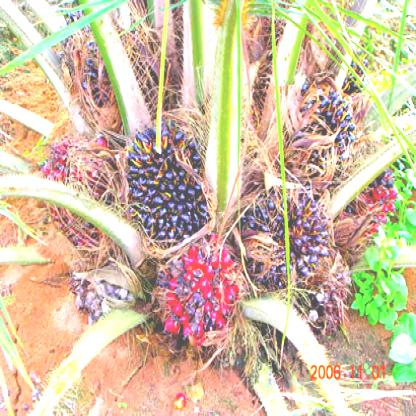1: (158, 241, 252, 347), (42, 138, 122, 242), (340, 170, 399, 246)
palm-oil: (237, 180, 328, 286), (125, 126, 213, 235), (76, 22, 165, 110), (285, 77, 359, 174)
